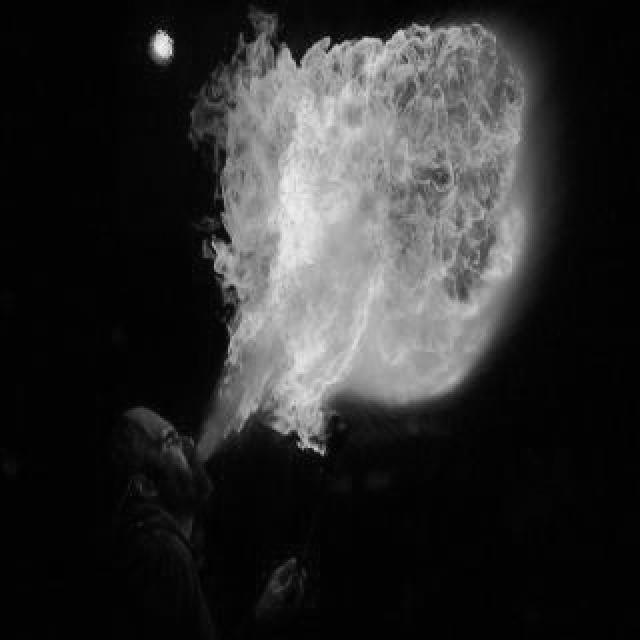Fire: (184, 18, 534, 448)
